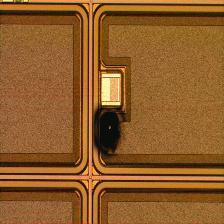PARTICLE: (91, 103, 127, 160)
